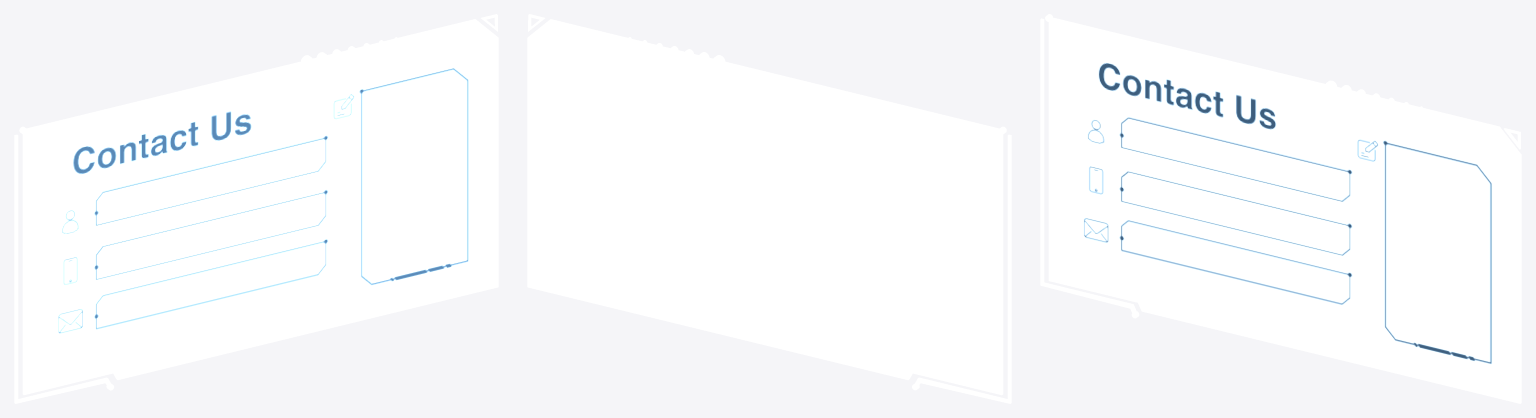
File: Contact.glb
The picture shows the model from 3 angles, left to right: view 1: azimuth 30°, elevation 25°; view 2: azimuth 150°, elevation 25°; view 3: azimuth 330°, elevation 25°; orthographic projection.
Parts seen in each view (by area): view 1: Plane.003, Plane, Plane.001; view 2: Plane.003, Plane, Plane.001; view 3: Plane.003, Plane, Plane.001.
Part boxes in pixels (x1,y1,x2,y2): Plane.003: [28, 24, 493, 389]; Plane: [22, 19, 498, 394]; Plane.001: [14, 134, 111, 403]; Plane.003: [531, 24, 997, 389]; Plane: [527, 19, 1003, 395]; Plane.001: [914, 134, 1011, 403]; Plane.003: [1053, 23, 1516, 397]; Plane: [1048, 17, 1521, 403]; Plane.001: [1040, 18, 1136, 312].
Size of the model in its own units: 6.1 by 3.44 by 0.048.
